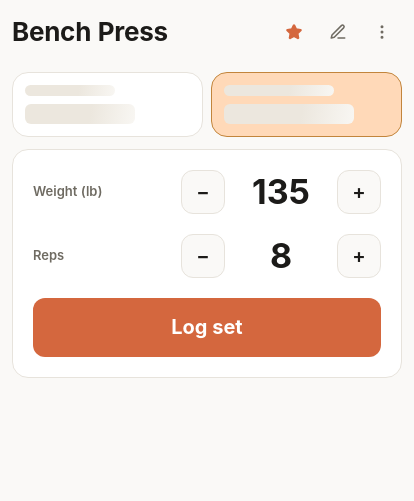
Test: ExerciseDetail in-flight visual feedback › does not roll back the set or show an alarming toast for a transient (non-4xx) failure -- it stays queued instead
Click the button "Log set" at (207, 328), box [33,298,381,357]
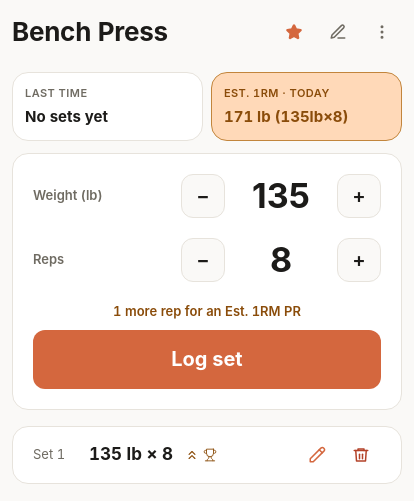
Result: the text "135 lb × 8" is shown at [89,442,173,467]
